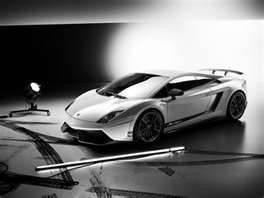car: (63, 72, 250, 149)
